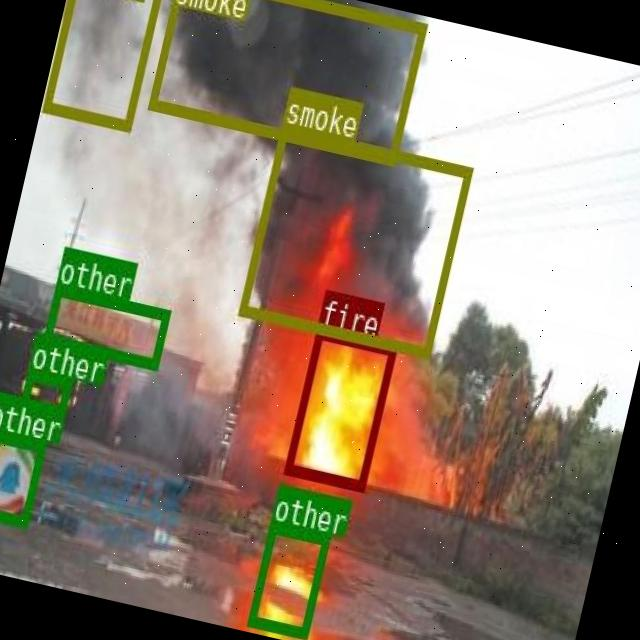fire: (284, 326, 396, 488)
smoke: (236, 123, 472, 357), (146, 0, 425, 163), (41, 0, 165, 129)
